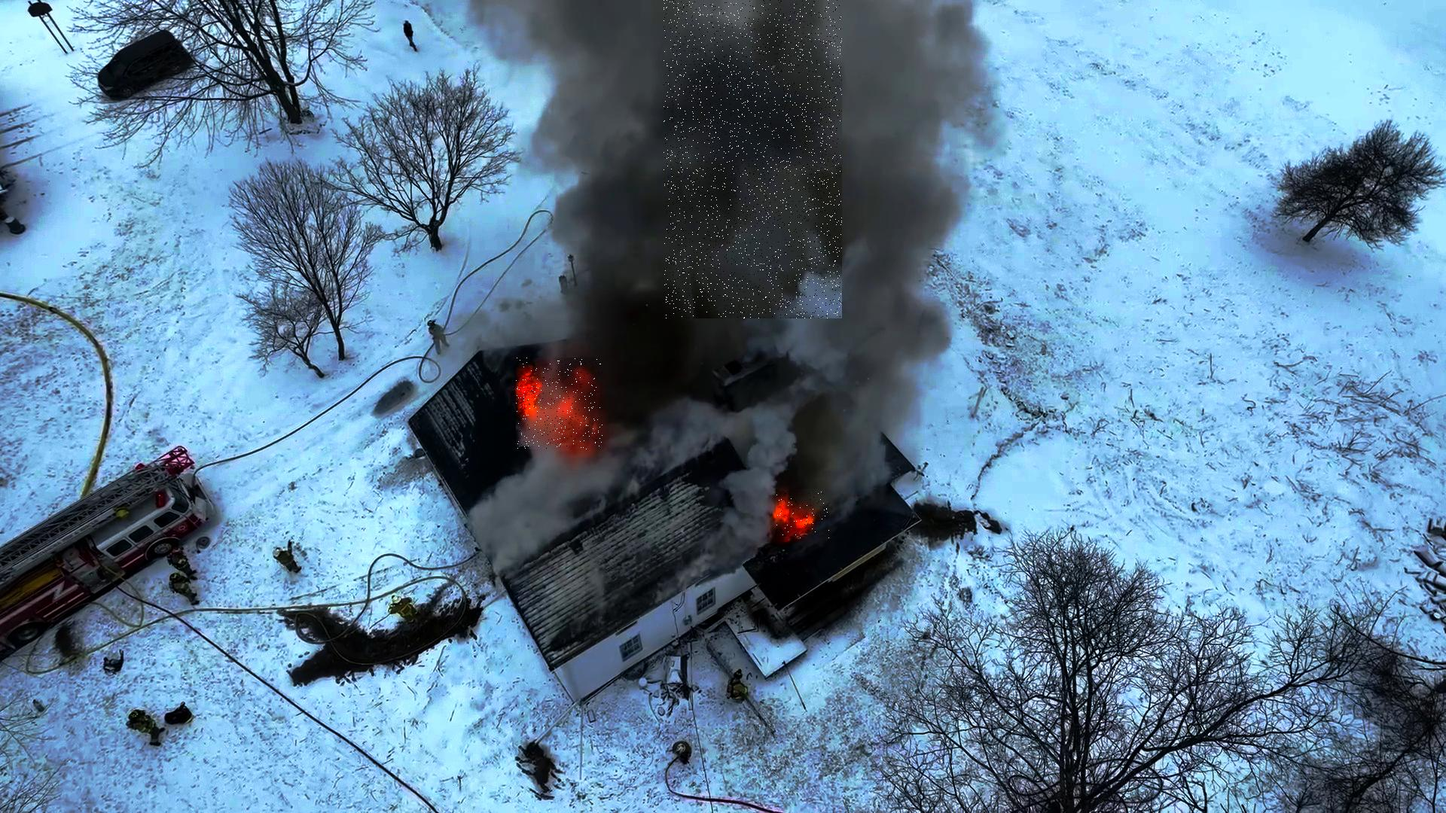fire: (516, 358, 603, 450), (776, 490, 831, 539)
smoke: (664, 0, 842, 318)
